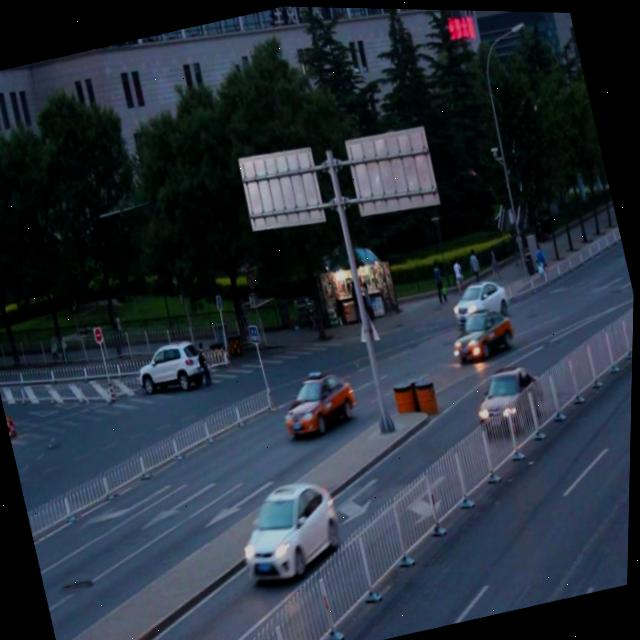car: (228, 470, 350, 587), (276, 362, 361, 439), (469, 358, 549, 433), (132, 333, 208, 399), (446, 300, 519, 364), (447, 271, 511, 324)
